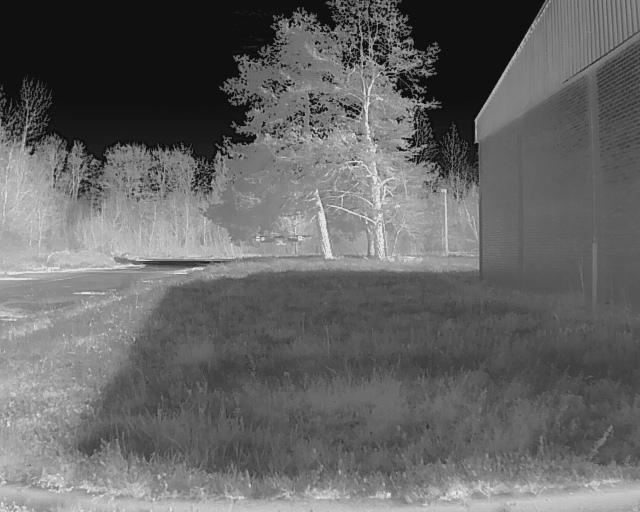drone: (248, 231, 312, 253)
